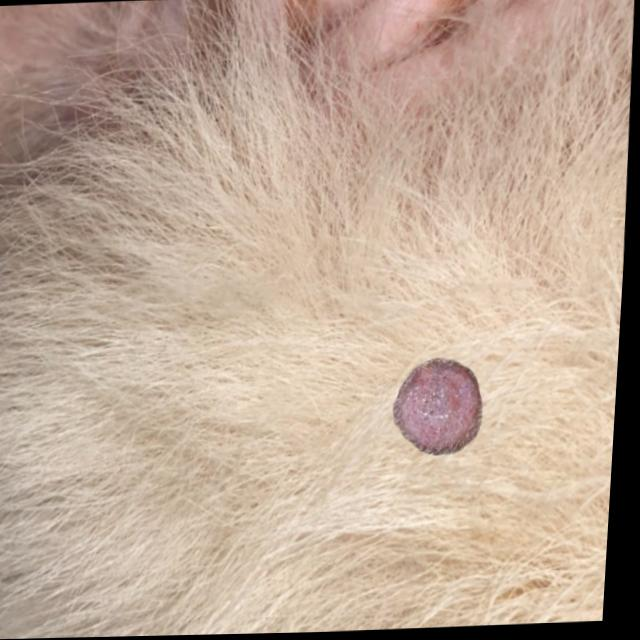ringworm: (382, 324, 537, 506)
